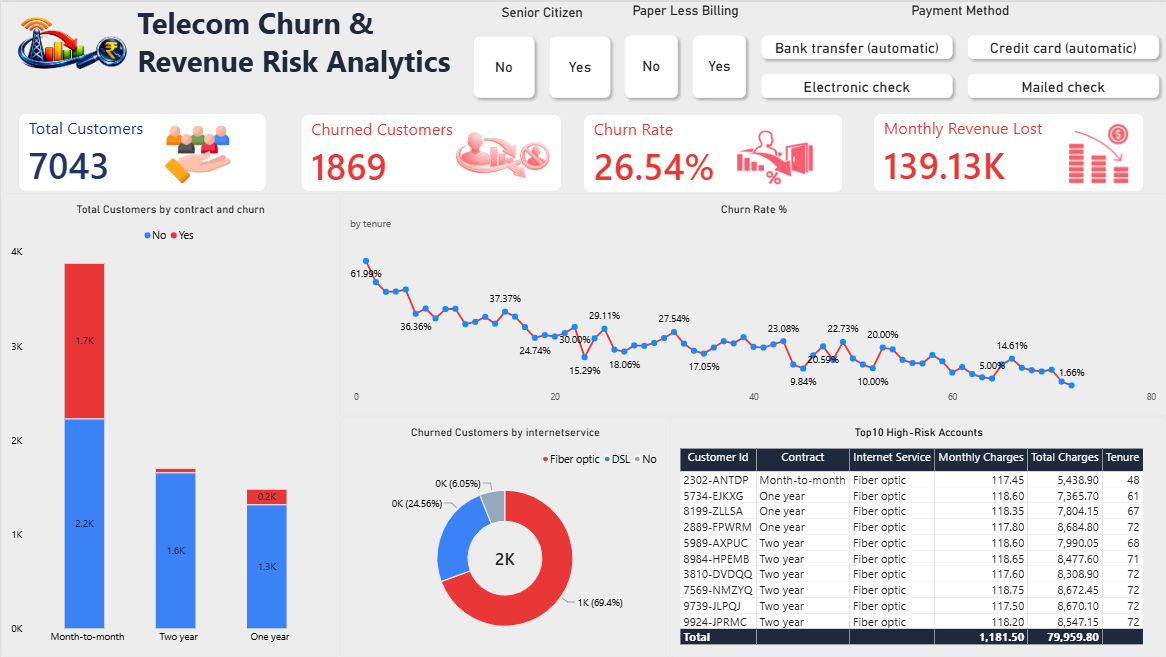

The dashboard page shown, as its layout file describes it:
{"tool":"powerbi","page":{"name":"Churn Analytics","canvas":[1920,1080],"ordinal":0},"visuals":[{"type":"cardVisual","fields":{"Data":["public customer_churn.Total Customers"]},"box":[28.1,183.6,408.3,129.6],"z":0},{"type":"cardVisual","fields":{"Data":["public customer_churn.Churned Customers"]},"box":[494.7,185.8,429.9,127.5],"z":1000},{"type":"cardVisual","fields":{"Data":["public customer_churn.Monthly Revenue Lost"]},"box":[1436.5,183.6,445,129.6],"z":2000},{"type":"cardVisual","fields":{"Data":["public customer_churn.Churn Rate %"]},"box":[959.1,185.8,427.7,129.6],"z":3000},{"type":"columnChart","fields":{"Category":["public customer_churn.contract"],"Y":["public customer_churn.Total Customers"],"Series":["public customer_churn.churn"]},"box":[0,315.4,557.3,764.7],"z":4000},{"type":"donutChart","fields":{"Category":["public customer_churn.internetservice"],"Y":["public customer_churn.Churned Customers"]},"box":[557.3,682.6,544.4,397.5],"z":5000},{"type":"lineChart","fields":{"Category":["public customer_churn.tenure"],"Y":["public customer_churn.Churn Rate %"]},"box":[557.3,315.4,1363.1,367.2],"z":6000},{"type":"tableEx","title":"Top10 High-Risk Accounts","fields":{"Values":["public customer_churn.customerid","public customer_churn.contract","public customer_churn.internetservice","Sum(public customer_churn.monthlycharges)","Sum(public customer_churn.totalcharges)","public customer_churn.tenure"]},"box":[1101.7,682.6,818.7,397.5],"z":7000},{"type":"advancedSlicerVisual","title":"Payment Method","fields":{"Values":["public customer_churn.paymentmethod"]},"box":[1240,2.2,680.5,168.5],"z":8000},{"type":"advancedSlicerVisual","title":"Paper Less Billing","fields":{"Values":["public customer_churn.paperlessbilling"]},"box":[1015.3,2.2,224.7,168.5],"z":9000},{"type":"advancedSlicerVisual","title":"Senior Citizen","fields":{"Values":["public customer_churn.seniorcitizen"]},"box":[764.7,4.3,250.6,166.3],"z":10000},{"type":"textbox","box":[224.7,0,540.1,131.8],"z":11000},{"type":"image","box":[0,0,225,150],"z":12000},{"type":"image","box":[261.4,187.9,125.3,127.5],"z":13000},{"type":"image","box":[1732.5,196.6,149.1,103.7],"z":14000},{"type":"image","box":[1173,196.6,203.1,131.8],"z":15000},{"type":"image","box":[704.2,170.7,248.4,172.8],"z":16000}]}

Visuals, with their boxes in screenshot pixels (x1, y1, x2, y2), scaled from the page's 1920x1080 canvas onto the 1166x657 screenshot:
cardVisual - public customer_churn.Total Customers: rect(17, 112, 265, 191)
cardVisual - public customer_churn.Churned Customers: rect(300, 113, 562, 191)
cardVisual - public customer_churn.Monthly Revenue Lost: rect(872, 112, 1143, 191)
cardVisual - public customer_churn.Churn Rate %: rect(582, 113, 842, 192)
columnChart - public customer_churn.contract x public customer_churn.Total Customers: rect(0, 192, 338, 656)
donutChart - public customer_churn.internetservice x public customer_churn.Churned Customers: rect(338, 415, 669, 656)
lineChart - public customer_churn.tenure x public customer_churn.Churn Rate %: rect(338, 192, 1165, 415)
"Top10 High-Risk Accounts" tableEx: rect(669, 415, 1165, 656)
"Payment Method" advancedSlicerVisual: rect(753, 1, 1165, 104)
"Paper Less Billing" advancedSlicerVisual: rect(617, 1, 753, 104)
"Senior Citizen" advancedSlicerVisual: rect(464, 3, 617, 104)
textbox: rect(136, 0, 464, 80)
image: rect(0, 0, 137, 91)
image: rect(159, 114, 235, 192)
image: rect(1052, 120, 1143, 183)
image: rect(712, 120, 836, 200)
image: rect(428, 104, 579, 209)
